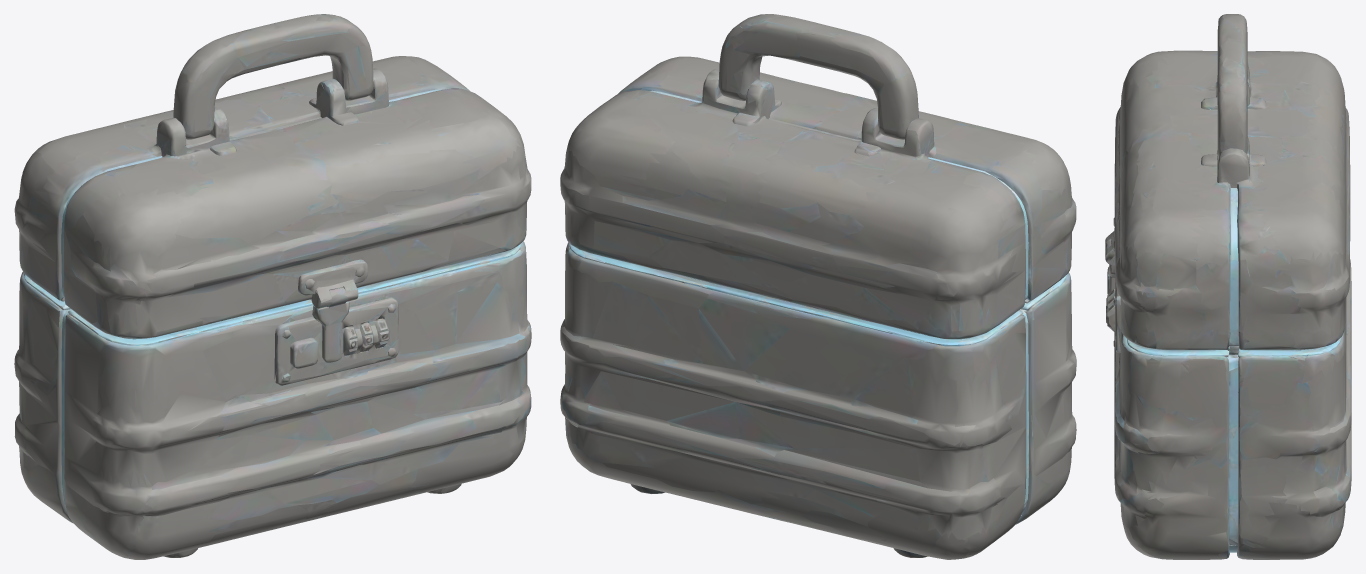
File: t3-titanium-v2.glb
The picture shows the model from 3 angles, left to right: view 1: azimuth 30°, elevation 25°; view 2: azimuth 150°, elevation 25°; view 3: azimuth 270°, elevation 25°; orthographic projection. The views are drawn at different scales.
Visible parts, largest first — view 1: mesh_node; view 2: mesh_node; view 3: mesh_node.
Boxes of the visible parts, <box> form: mesh_node: <box>14,14,531,559</box>; mesh_node: <box>560,14,1076,559</box>; mesh_node: <box>1105,14,1351,559</box>.
Size of the model in its own units: 1.83 by 1.9 by 0.9574.
1 material, 1 textured.
